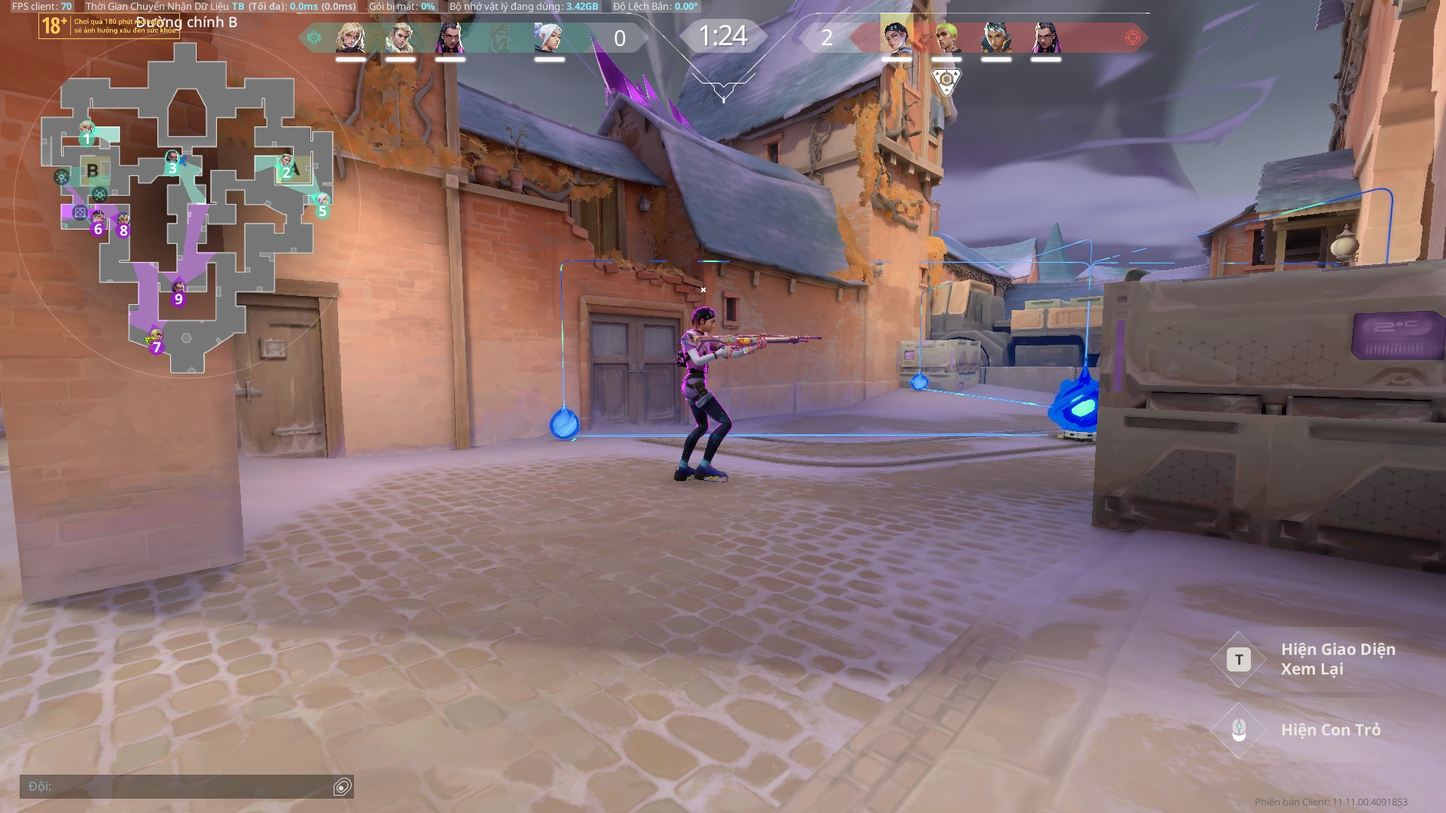body: (676, 329, 712, 381)
head: (692, 306, 715, 330)
